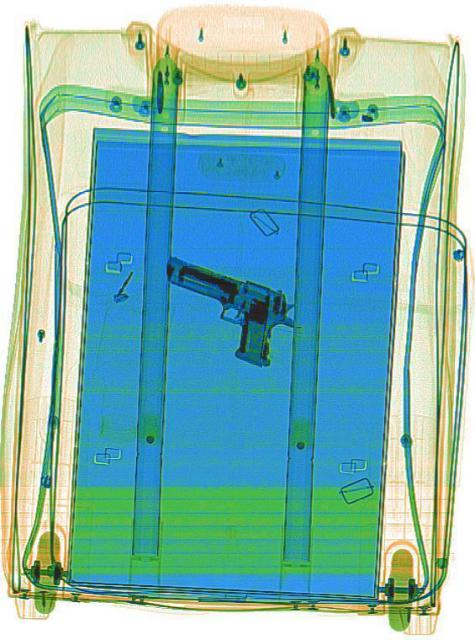Gun: (148, 242, 301, 376)
